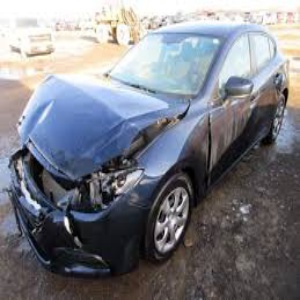door: (220, 149, 300, 244)
